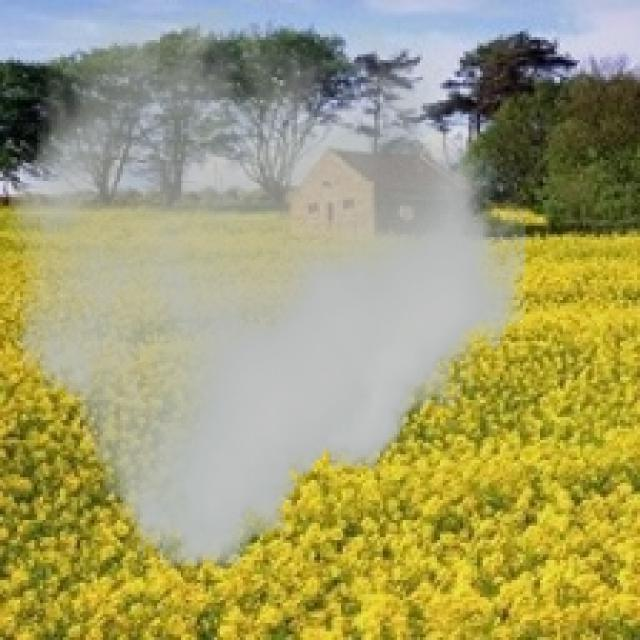Smoke: (8, 9, 526, 568)
